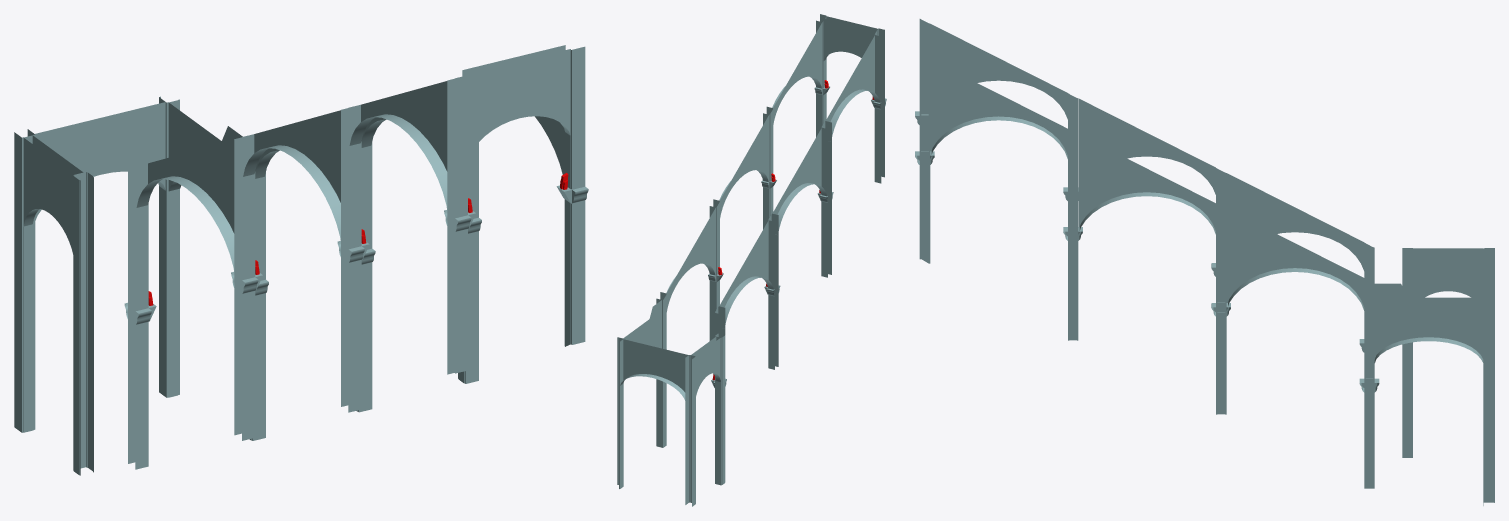
The model's file is FinalMap_Stairs_Deco 1.FBX.
3 views of the same model, side by side, from view 1: azimuth 30°, elevation 25°; view 2: azimuth 150°, elevation 25°; view 3: azimuth 270°, elevation 25° (orthographic). The views are drawn at different scales.
Visible parts, largest first — view 1: FinalMap_Stairs_Deco; view 2: FinalMap_Stairs_Deco; view 3: FinalMap_Stairs_Deco.
Boxes of the visible parts, <box> form: FinalMap_Stairs_Deco: <box>14,45,588,475</box>; FinalMap_Stairs_Deco: <box>617,14,886,506</box>; FinalMap_Stairs_Deco: <box>915,19,1494,505</box>.
Size of the model in its own units: 223 by 870 by 1018.
